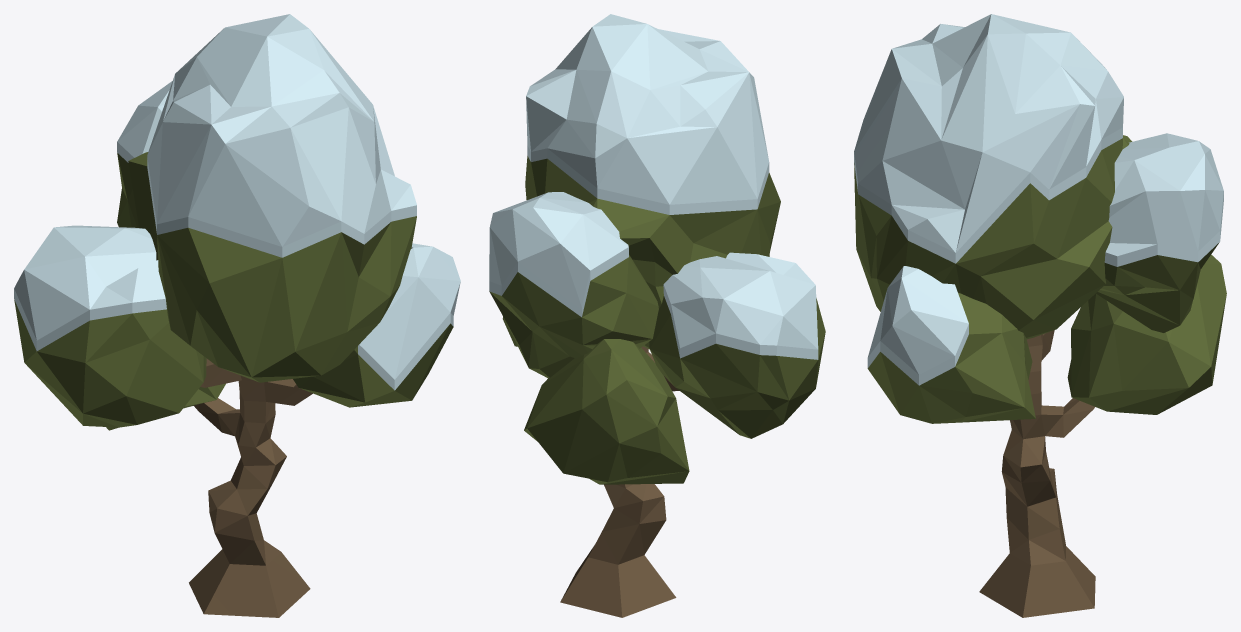
File: SM_Env_Tree_Twisted_01_Snow.gltf
3 views of the same model, side by side, from view 1: azimuth 30°, elevation 25°; view 2: azimuth 150°, elevation 25°; view 3: azimuth 270°, elevation 25° (orthographic). The views are drawn at different scales.
Parts seen in each view (by area): view 1: SM_Env_Tree_Twisted_01_Snow; view 2: SM_Env_Tree_Twisted_01_Snow; view 3: SM_Env_Tree_Twisted_01_Snow.
Part boxes in pixels (box(x1,y1,x2,y2)): SM_Env_Tree_Twisted_01_Snow: box(14, 14, 460, 617); SM_Env_Tree_Twisted_01_Snow: box(489, 14, 825, 617); SM_Env_Tree_Twisted_01_Snow: box(854, 14, 1226, 617).
Bounding box in the file's own units: 3.34 × 5.11 × 3.
1 material, 1 textured.
